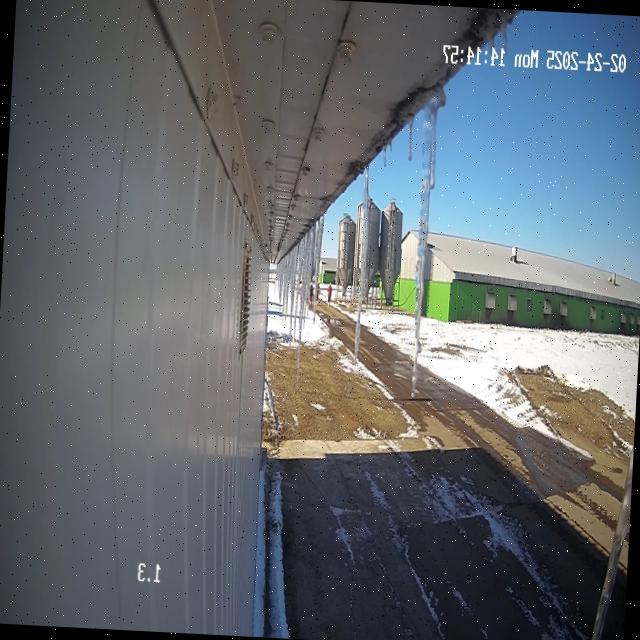Red uniform: (328, 283, 333, 303), (309, 284, 314, 301), (316, 282, 320, 302)
